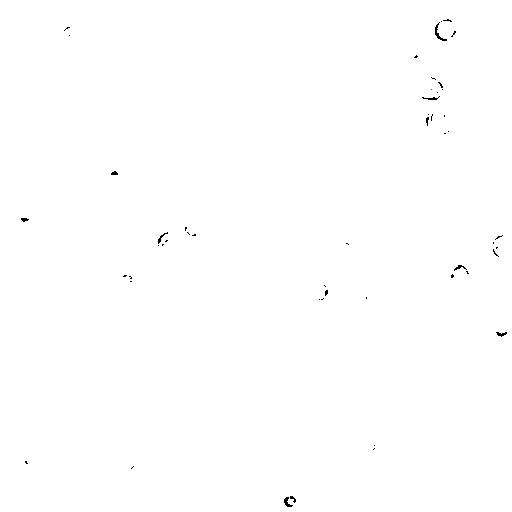micro-algae: (205, 49, 345, 197), (160, 59, 283, 187), (285, 49, 340, 107), (78, 255, 129, 304), (354, 335, 402, 381), (119, 368, 161, 409), (188, 459, 226, 502), (295, 457, 331, 491), (391, 283, 424, 317), (65, 131, 97, 166), (399, 39, 431, 73), (155, 230, 185, 261), (101, 163, 134, 191), (425, 105, 454, 136), (414, 75, 445, 103), (162, 478, 193, 505), (116, 343, 146, 369), (383, 252, 409, 280), (174, 77, 201, 103), (327, 358, 354, 383), (447, 262, 472, 289), (54, 1, 81, 24), (20, 443, 46, 466), (142, 245, 166, 269), (433, 19, 458, 42), (127, 460, 150, 485), (345, 285, 367, 309), (491, 233, 511, 259), (60, 23, 83, 45), (139, 279, 165, 298), (279, 491, 303, 511), (331, 239, 355, 256), (491, 318, 511, 337), (325, 253, 345, 272), (15, 205, 37, 222), (109, 227, 129, 244), (152, 348, 167, 369), (183, 220, 201, 237), (311, 282, 329, 299), (119, 273, 137, 287), (364, 436, 377, 454), (505, 470, 511, 489)
